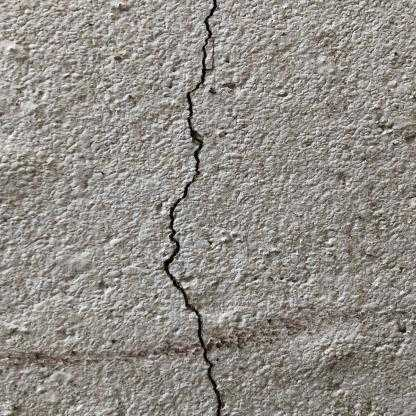crack: (163, 0, 222, 414)
